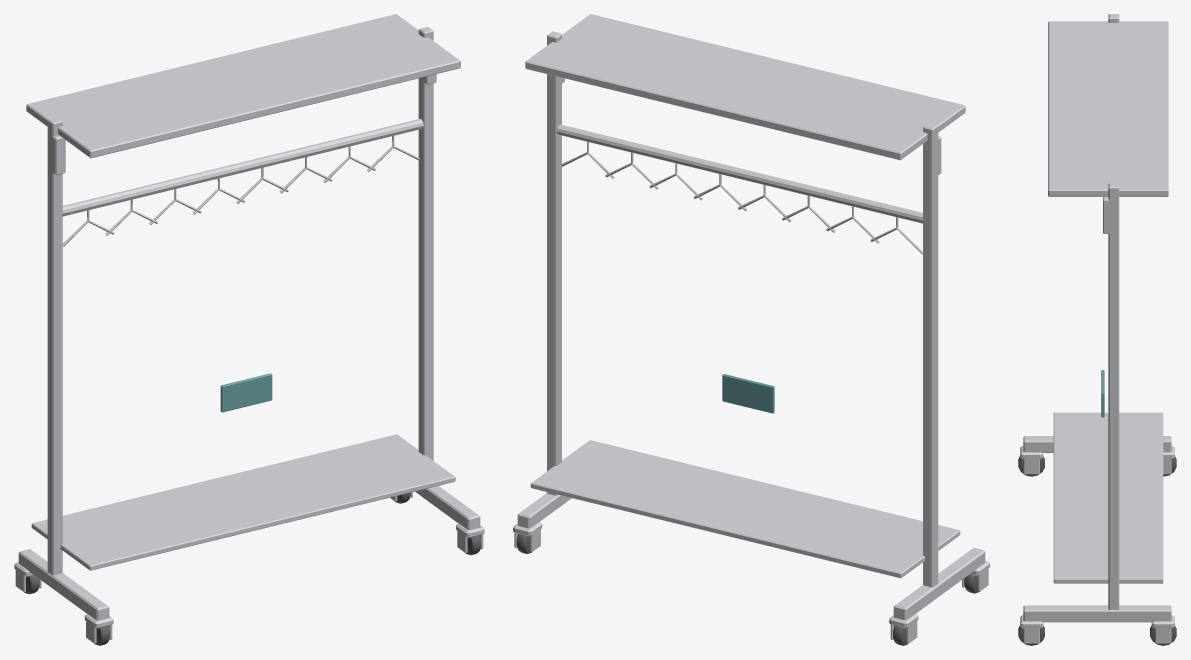
Rendered from hotel-and-resort-operations-cloakroom-rail-0f7c1ddd__25925.glb.
3 views of the same model, side by side, from view 1: azimuth 30°, elevation 25°; view 2: azimuth 150°, elevation 25°; view 3: azimuth 270°, elevation 25° (orthographic). The views are drawn at different scales.
Parts seen in each view (by area): view 1: cloakroom-rail; view 2: cloakroom-rail; view 3: cloakroom-rail, castor-rb, castor-rf, castor-lf, castor-lb.
Part boxes in pixels (x1,y1,x2,y2): cloakroom-rail: [18, 14, 480, 620]; cloakroom-rail: [517, 14, 985, 620]; cloakroom-rail: [1023, 14, 1171, 622]; castor-rb: [1151, 615, 1174, 643]; castor-rf: [1020, 615, 1043, 643]; castor-lf: [1020, 446, 1043, 474]; castor-lb: [1163, 446, 1174, 474].
Size of the model in its own units: 1.54 by 1.85 by 0.5775.
